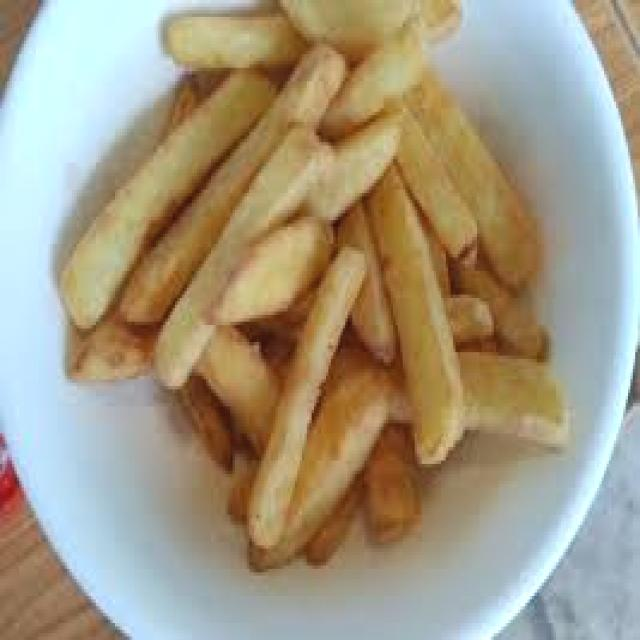kentang goreng: (247, 240, 369, 569)
